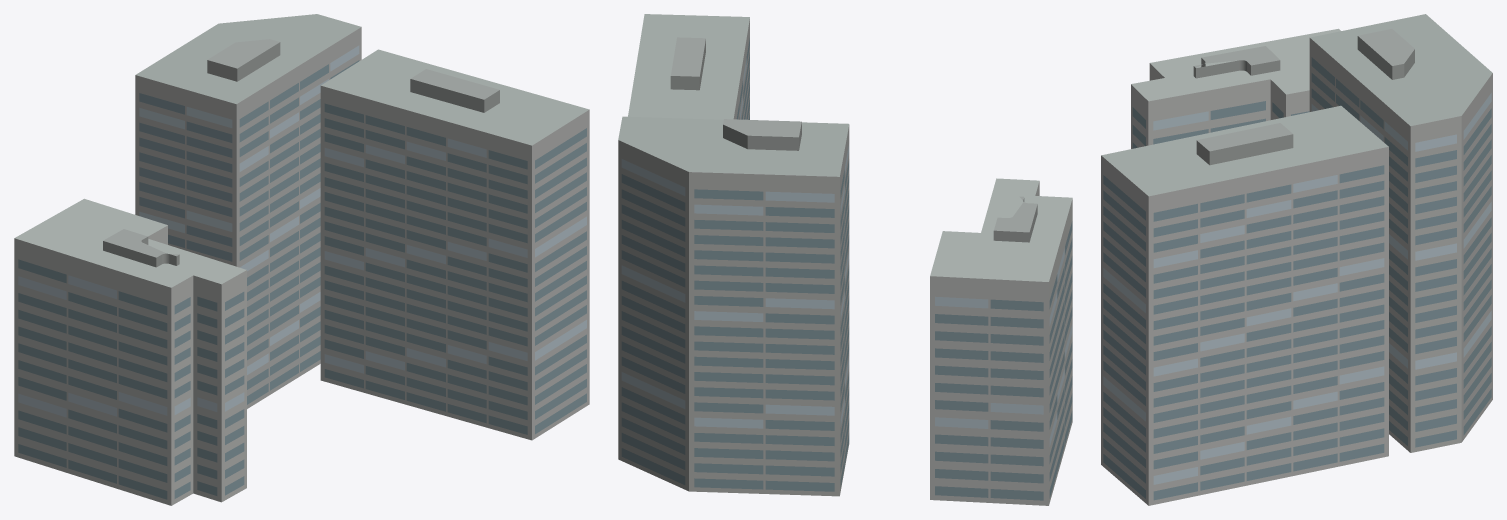
File: apt-a15279401.glb
3 renders of one model, left to right at view 1: azimuth 30°, elevation 25°; view 2: azimuth 150°, elevation 25°; view 3: azimuth 270°, elevation 25°, orthographic. The views are drawn at different scales.
Parts seen in each view (by area): view 1: apt-a15279401; view 2: apt-a15279401; view 3: apt-a15279401.
Part boxes in pixels (box(x1,y1,x2,y2)): apt-a15279401: box(14, 14, 589, 505); apt-a15279401: box(618, 14, 1072, 505); apt-a15279401: box(1101, 14, 1492, 505).
Bounding box in the file's own units: 92.2 × 59 × 61.47.
